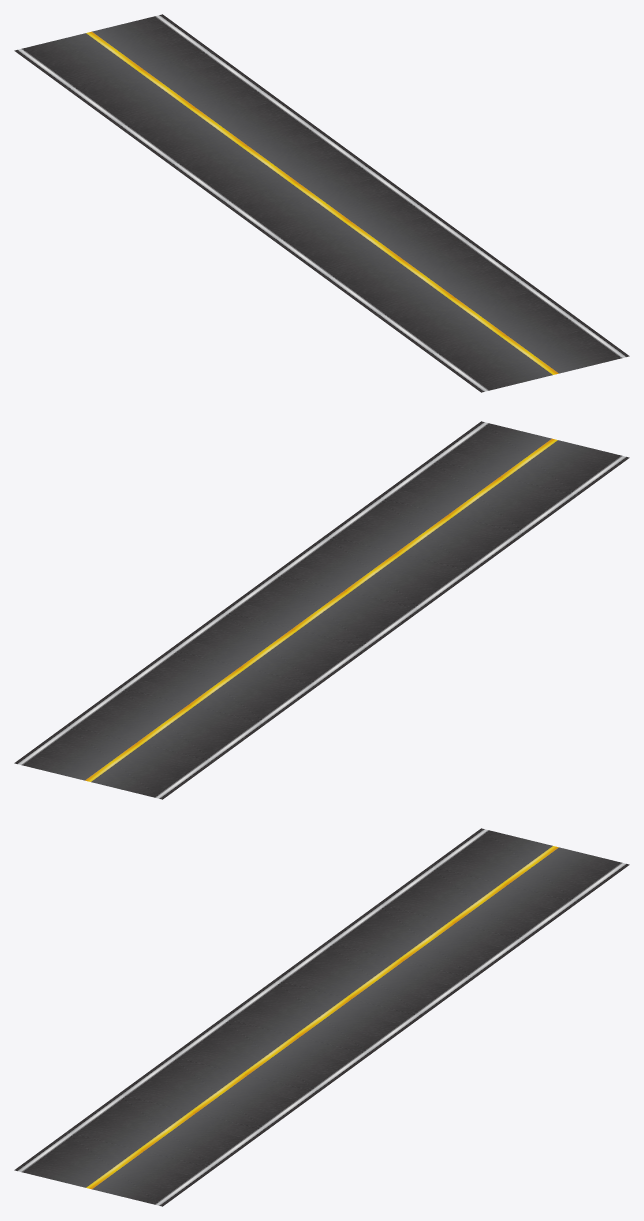
Rendered from road.glb.
The picture shows the model from 3 angles, top to bottom: view 1: azimuth 30°, elevation 25°; view 2: azimuth 150°, elevation 25°; view 3: azimuth 330°, elevation 25°; orthographic projection.
Parts seen in each view (by area): view 1: outer_road.037; view 2: outer_road.037; view 3: outer_road.037.
Boxes of the visible parts, box(x1,y1,x2,y2) form: outer_road.037: box(14, 14, 629, 392); outer_road.037: box(14, 421, 629, 799); outer_road.037: box(14, 828, 629, 1206).
Size of the model in its own units: 33.23 by 0 by 181.
Materials: 1 (1 with a texture image).
